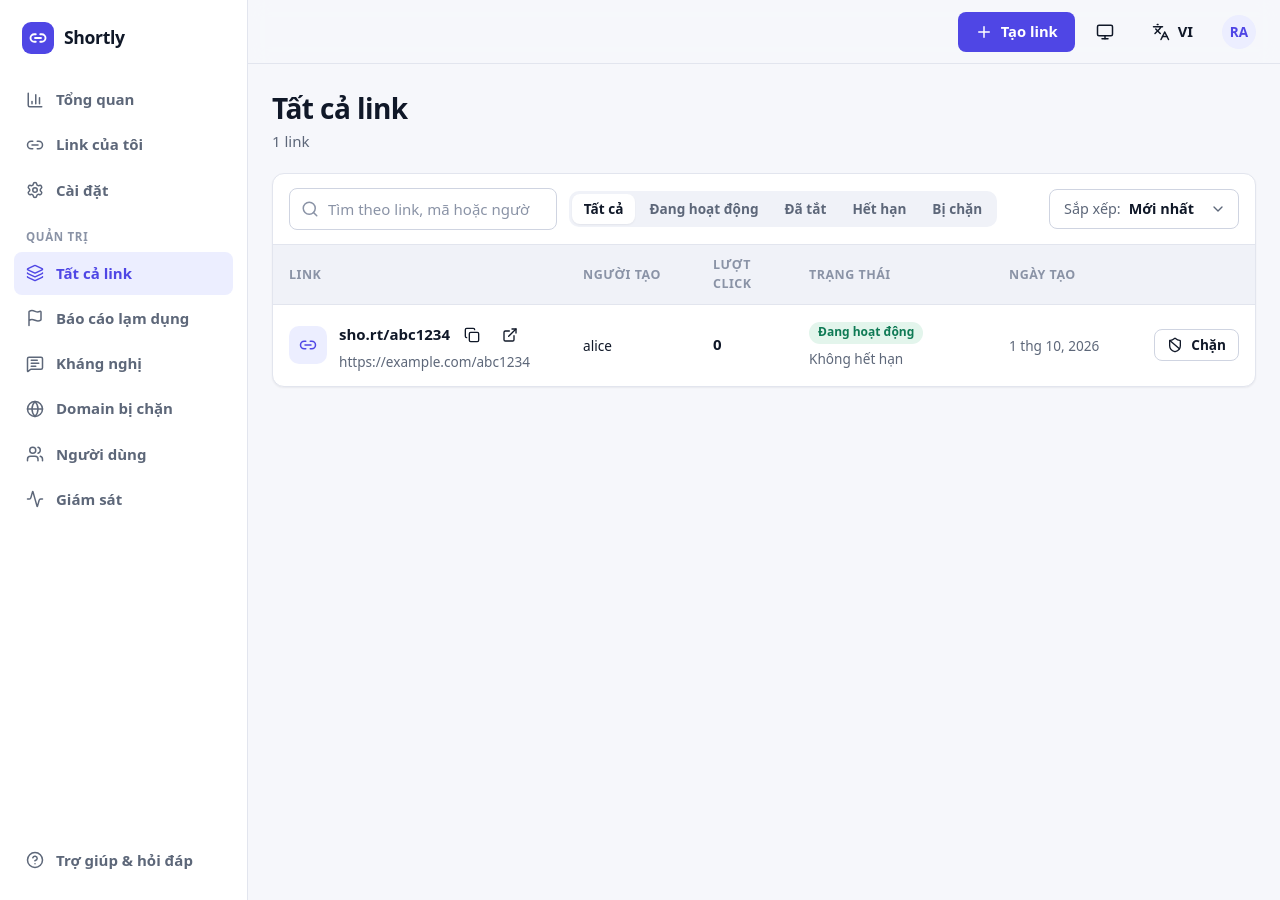
Scenario: quản trị: tất cả link › lỗi từ server khi chặn hiện trong hộp thoại và không đổi dòng
The width and height of the screenshot is (1280, 900).
Expected: the text "https://example.com/abc1234" is shown, [339,350,530,372]
Click the button with aria-label "Chặn abc1234": (1197, 345) [1154,329,1239,361]
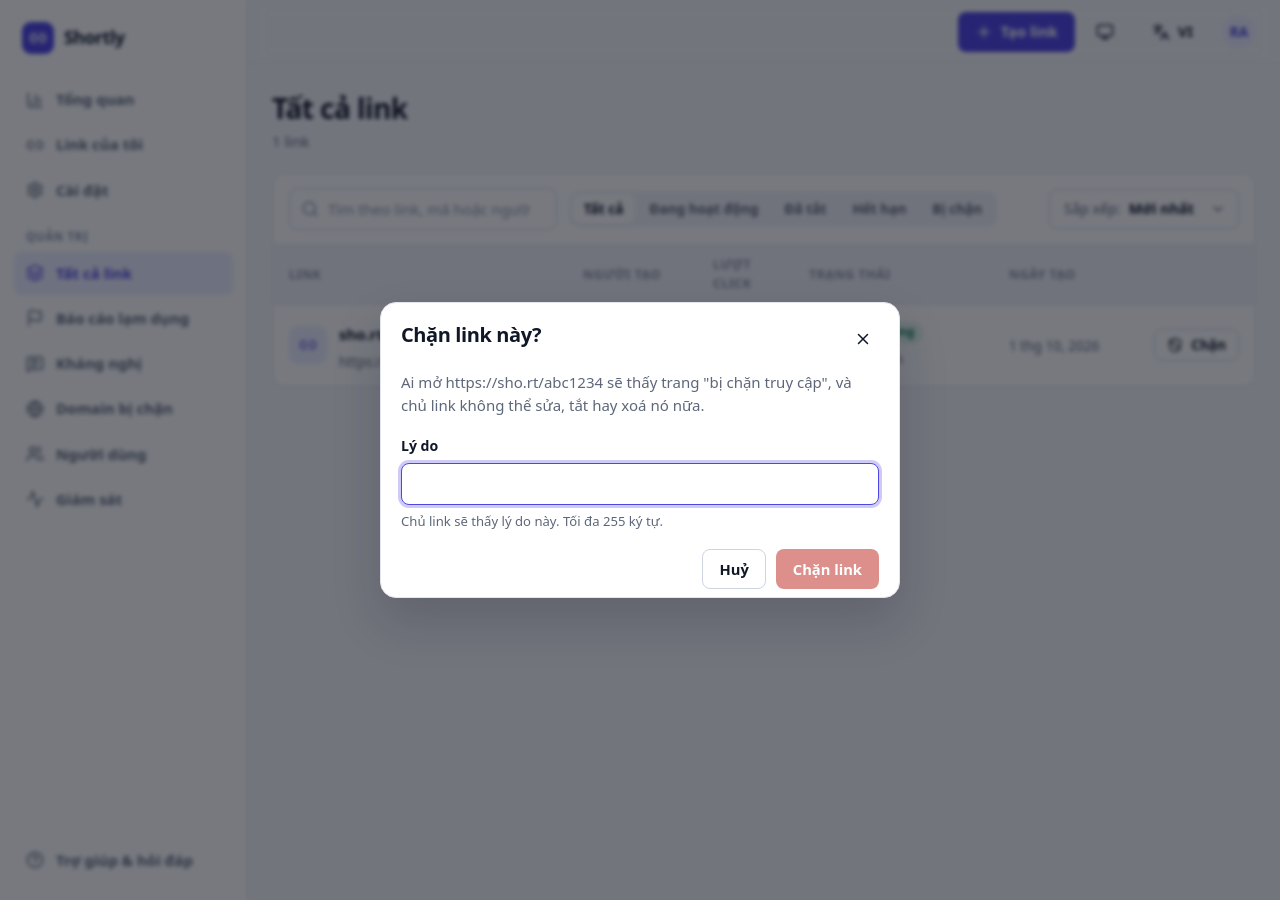
In the field labelled "Lý do": (640, 484) [401,463,879,505], type "spam"
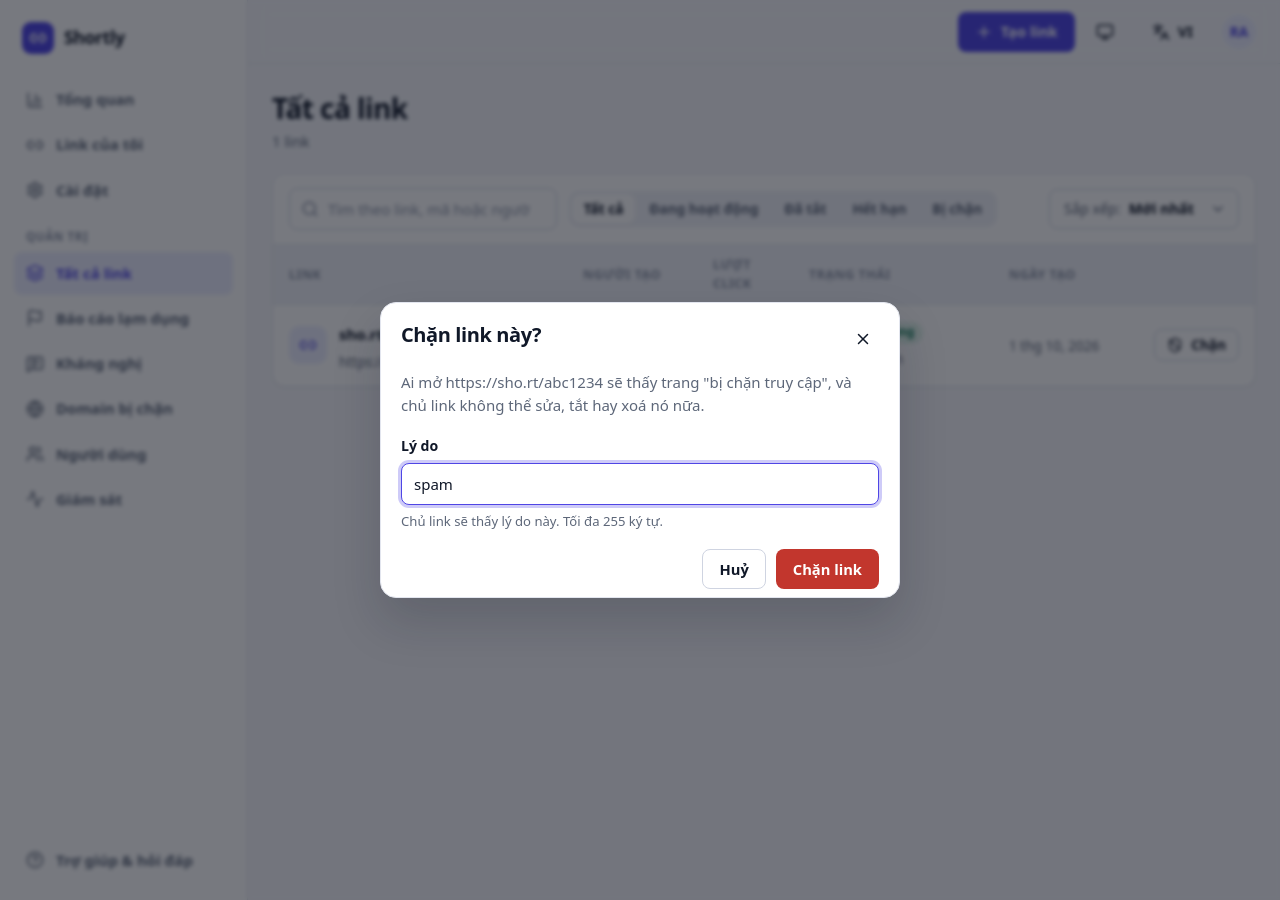
Click the button "Chặn link": (827, 569) [776,549,879,589]
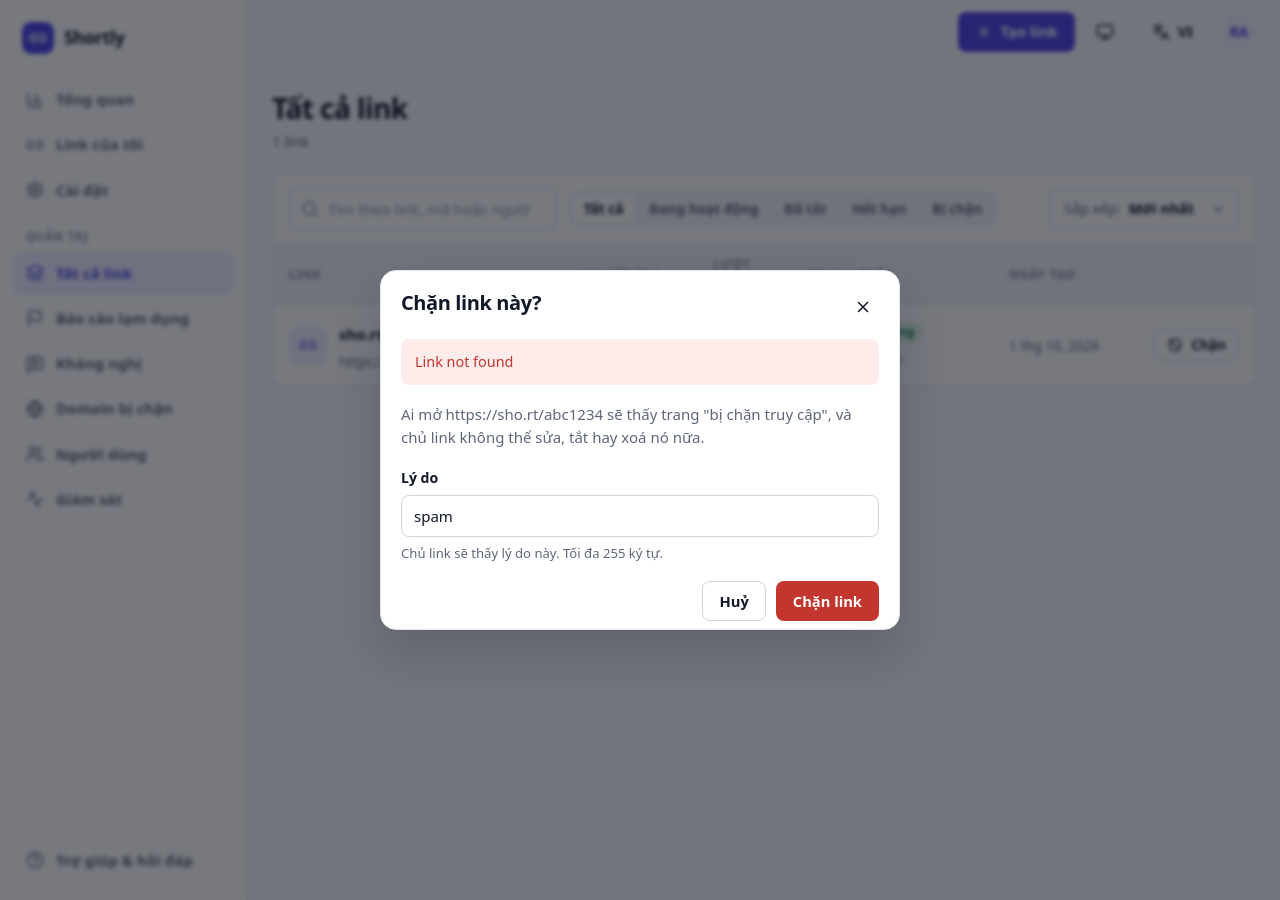
Expected: the button with aria-label "Chặn abc1234" is shown, [1154,329,1239,361]
Now the message "Link not found" is shown, box [401,338,879,385]
